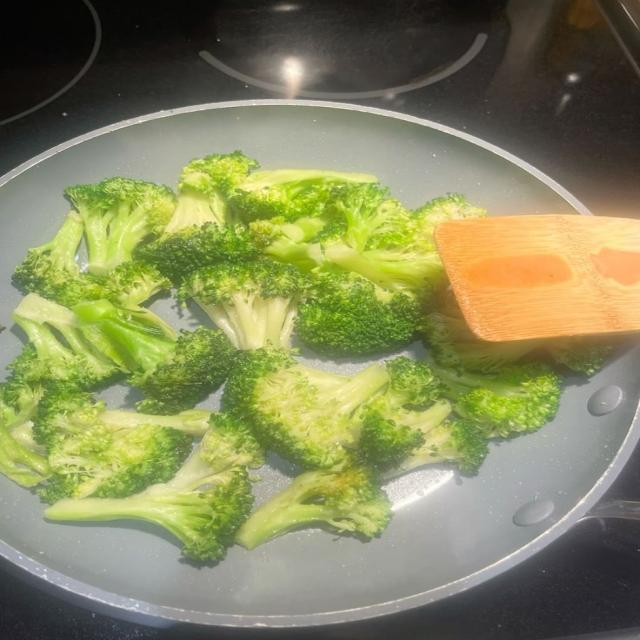broccoli: (45, 445, 253, 561), (222, 350, 388, 469), (34, 385, 193, 502), (74, 301, 235, 413), (135, 152, 259, 283), (423, 290, 613, 375), (359, 357, 487, 476), (13, 212, 171, 307), (323, 184, 444, 293), (236, 464, 391, 549), (179, 261, 307, 349), (294, 272, 420, 356), (66, 178, 175, 274), (8, 294, 119, 388), (358, 357, 451, 469), (423, 290, 542, 372), (436, 362, 561, 437), (13, 211, 104, 306), (229, 169, 377, 223), (166, 151, 258, 234), (135, 222, 260, 283), (386, 419, 487, 477), (0, 377, 50, 487), (249, 215, 330, 271), (200, 413, 265, 472), (0, 417, 51, 487), (99, 260, 171, 307), (385, 357, 444, 407), (414, 193, 486, 232), (542, 336, 613, 375), (0, 376, 42, 429)
